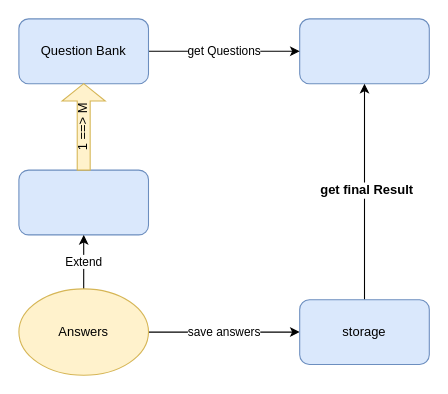
Image size: 448x394. Some labels were removed from this diagram. Each missing label, with the box of its shape:
Questions: (18, 169, 148, 235)
Quiz: (299, 18, 429, 84)
